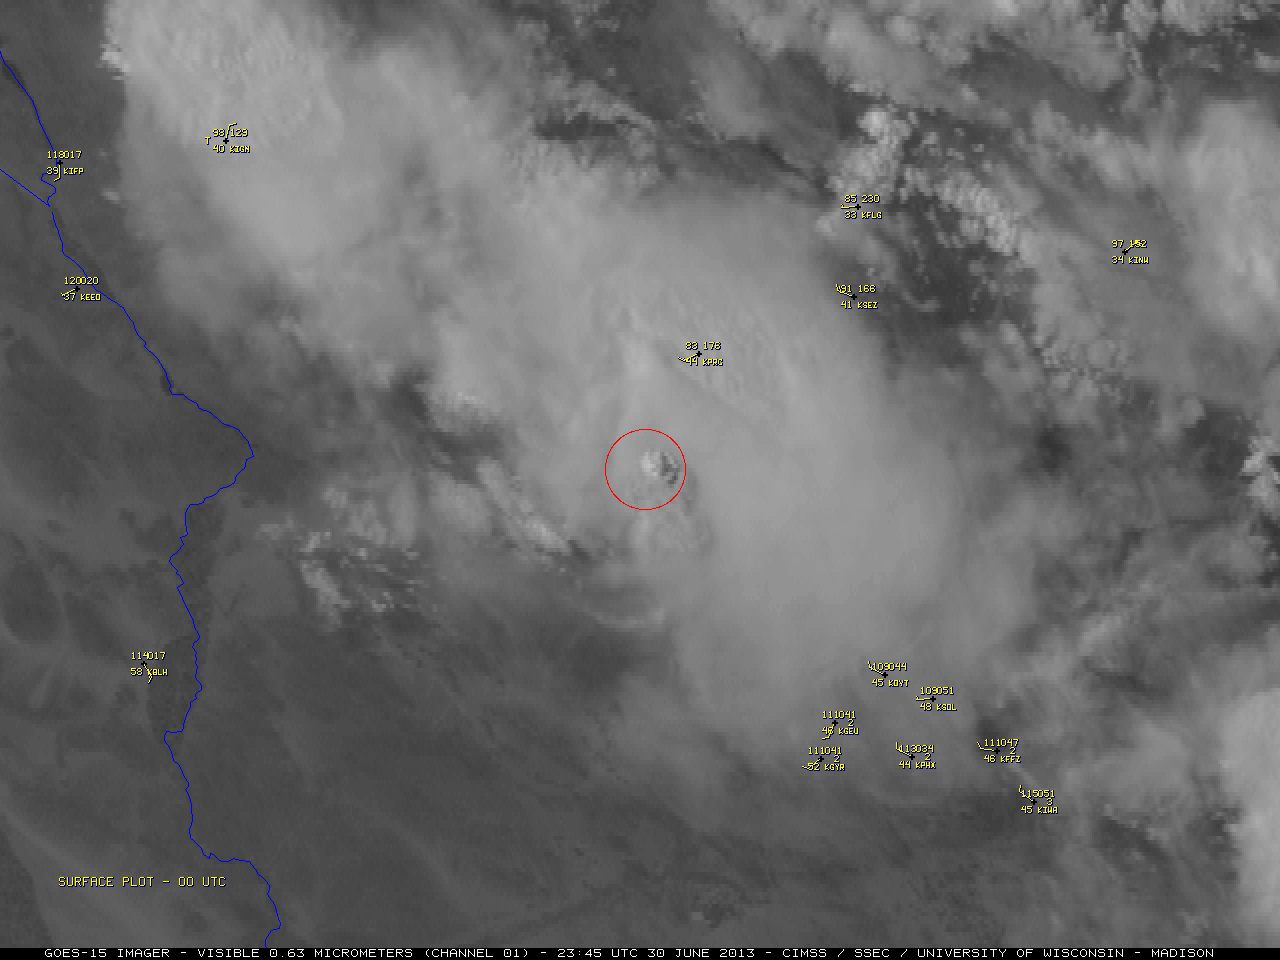Fire: (593, 391, 711, 537)
